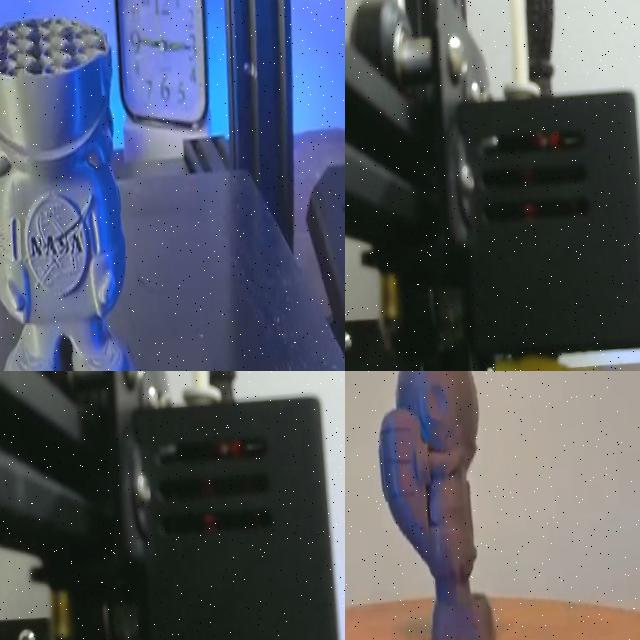spaghetti: (484, 344, 590, 371)
